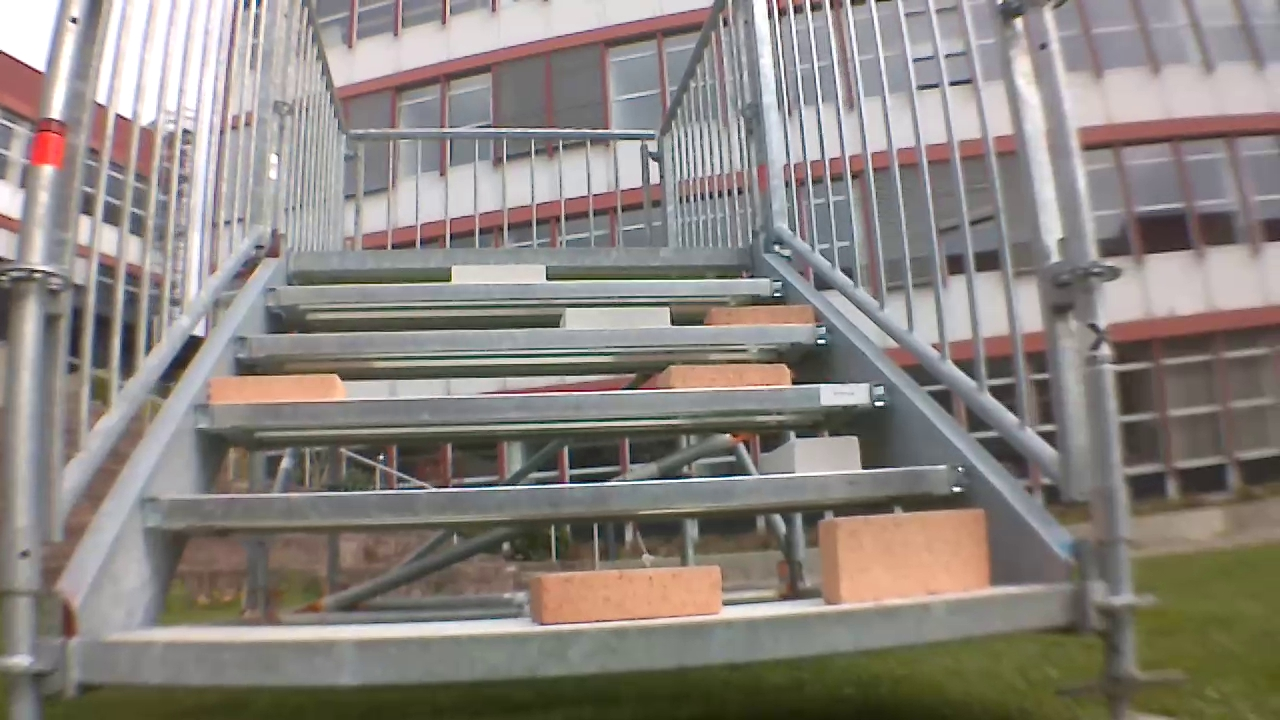brick: (820, 511, 993, 608), (526, 565, 729, 633), (203, 373, 336, 405), (657, 362, 786, 389), (772, 432, 855, 471), (707, 301, 819, 329), (555, 301, 679, 326), (445, 261, 546, 288)
edge: (83, 579, 1097, 685), (135, 461, 984, 525), (178, 380, 899, 426), (221, 326, 838, 358), (253, 274, 792, 308), (284, 249, 754, 268)
stairs: (14, 0, 1088, 699)
steps: (52, 240, 1133, 694)
